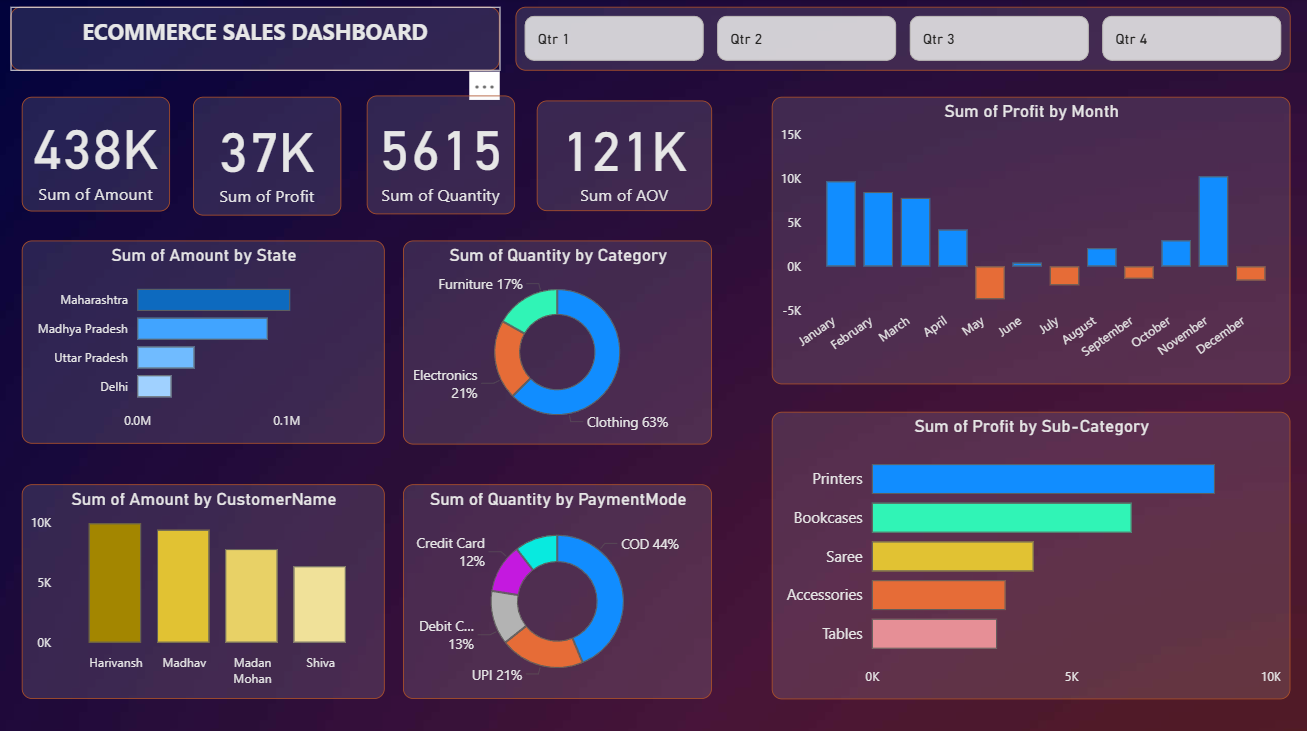

Layout of this report page (visuals, bound fields, positions):
{"tool":"powerbi","page":{"name":"Page 1","canvas":[1280,720],"ordinal":0},"visuals":[{"type":"columnChart","fields":{"Category":["Orders.Date.Variation.Date Hierarchy.Month"],"Y":["Details.Profit"]},"box":[755.7,96.4,506.2,280.7],"z":0},{"type":"textbox","box":[12.8,8.5,477.8,62.4],"z":1},{"type":"barChart","fields":{"Category":["Details.Sub-Category"],"Y":["Details.Profit"]},"box":[755.7,404.1,506.2,280.7],"z":2},{"type":"donutChart","fields":{"Category":["Details.Category"],"Y":["Details.Quantity"]},"box":[395.7,236.5,301.6,199.1],"z":3},{"type":"donutChart","fields":{"Category":["Details.PaymentMode","Details.Category"],"Y":["Details.Quantity"]},"box":[395.7,475.3,301.6,209.9],"z":4},{"type":"card","fields":{"Values":["Details.Amount"]},"box":[22.7,96.4,144.6,112],"z":5},{"type":"card","fields":{"Values":["Details.Profit"]},"box":[190,96.4,144.6,116.3],"z":6},{"type":"card","fields":{"Values":["Details.Quantity"]},"box":[360.1,95,144.6,116.3],"z":7},{"type":"card","fields":{"Values":["Details.AOV"]},"box":[526,100.7,171.6,107.8],"z":8},{"type":"barChart","fields":{"Category":["Orders.State","Details.Sub-Category"],"Y":["Details.Amount"]},"box":[22.7,236.8,354.5,198.5],"z":9},{"type":"columnChart","fields":{"Y":["Details.Amount"],"Category":["Orders.CustomerName"]},"box":[22.7,475,354.5,209.8],"z":10},{"type":"advancedSlicerVisual","fields":{"Values":["Orders.Date.Variation.Date Hierarchy.Quarter"]},"box":[504.7,8.5,757.1,62.4],"z":11}]}

Visuals, with their boxes in screenshot pixels (x1, y1, x2, y2), scaled from the page's 1280x720 canvas onto the 1307x731 screenshot:
columnChart - Orders.Date.Variation.Date Hierarchy.Month x Details.Profit: crop(772, 98, 1289, 383)
textbox: crop(13, 9, 501, 72)
barChart - Details.Sub-Category x Details.Profit: crop(772, 410, 1289, 695)
donutChart - Details.Category x Details.Quantity: crop(404, 240, 712, 442)
donutChart - Details.PaymentMode x Details.Category: crop(404, 483, 712, 696)
card - Details.Amount: crop(23, 98, 171, 212)
card - Details.Profit: crop(194, 98, 342, 216)
card - Details.Quantity: crop(368, 96, 515, 215)
card - Details.AOV: crop(537, 102, 712, 212)
barChart - Orders.State x Details.Sub-Category: crop(23, 240, 385, 442)
columnChart - Details.Amount x Orders.CustomerName: crop(23, 482, 385, 695)
advancedSlicerVisual - Orders.Date.Variation.Date Hierarchy.Quarter: crop(515, 9, 1288, 72)
